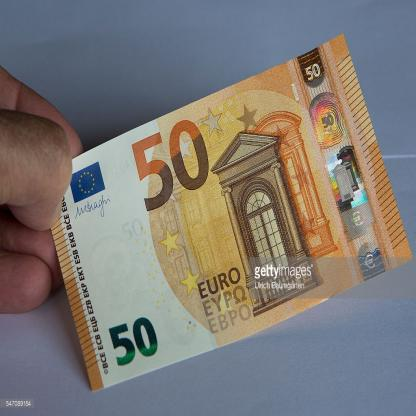billete: (48, 31, 415, 392)
